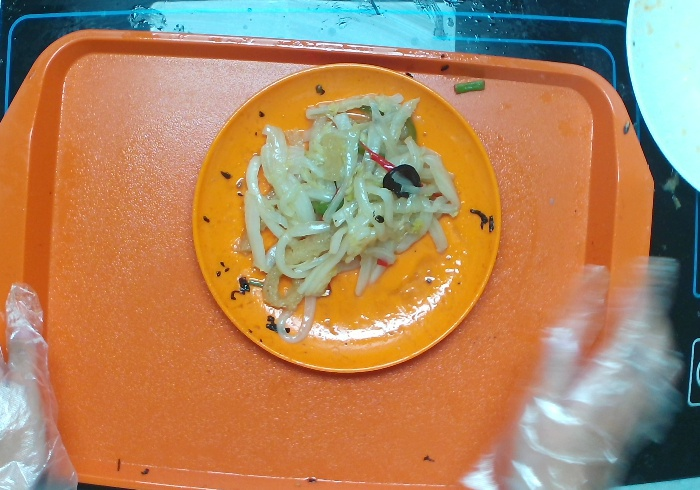HZYJPL-Ju_Huang_Yuan_Pan: (189, 61, 503, 375)
